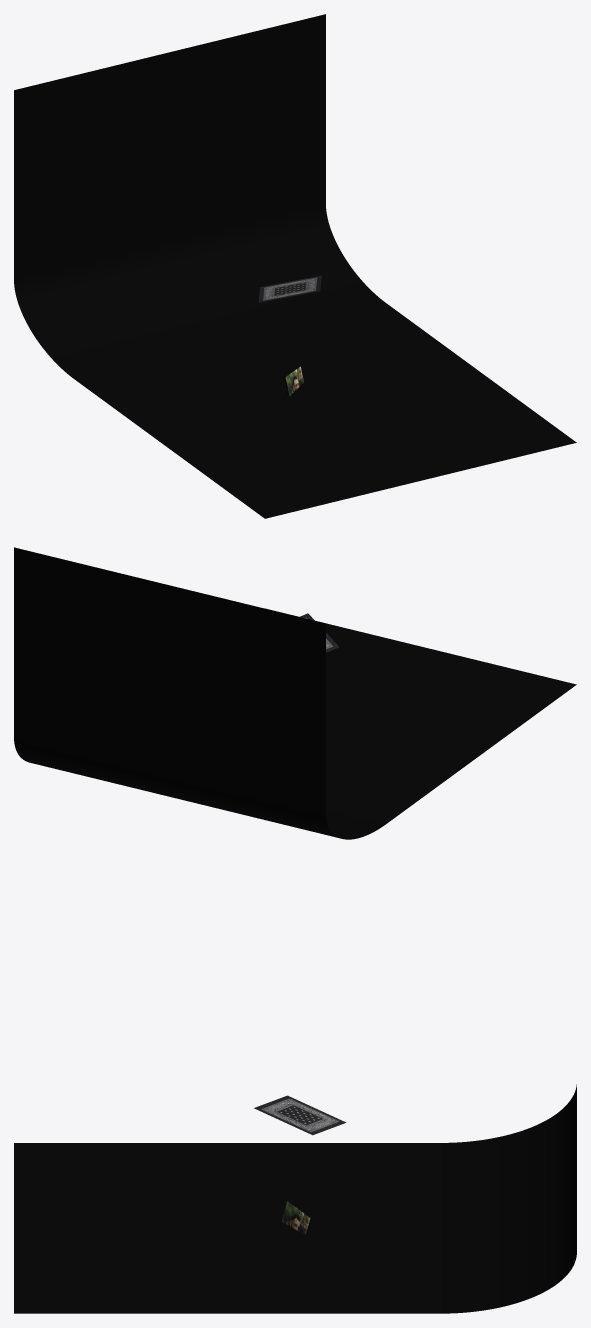
File: album.gltf
The picture shows the model from 3 angles, top to bottom: view 1: azimuth 30°, elevation 25°; view 2: azimuth 150°, elevation 25°; view 3: azimuth 270°, elevation 25°; orthographic projection. The views are drawn at different scales.
Parts seen in each view (by area): view 1: Plane, Bandana; view 2: Plane; view 3: Plane, Bandana, Cube.
Part boxes in pixels (bbox=[...]): Plane: bbox=[14, 14, 576, 518]; Bandana: bbox=[258, 275, 321, 302]; Plane: bbox=[14, 547, 576, 839]; Plane: bbox=[14, 1084, 576, 1313]; Bandana: bbox=[254, 1095, 346, 1135]; Cube: bbox=[281, 1201, 311, 1235].
Size of the model in its own units: 20 by 16.04 by 27.88.
Materials: 4 (3 with a texture image).
